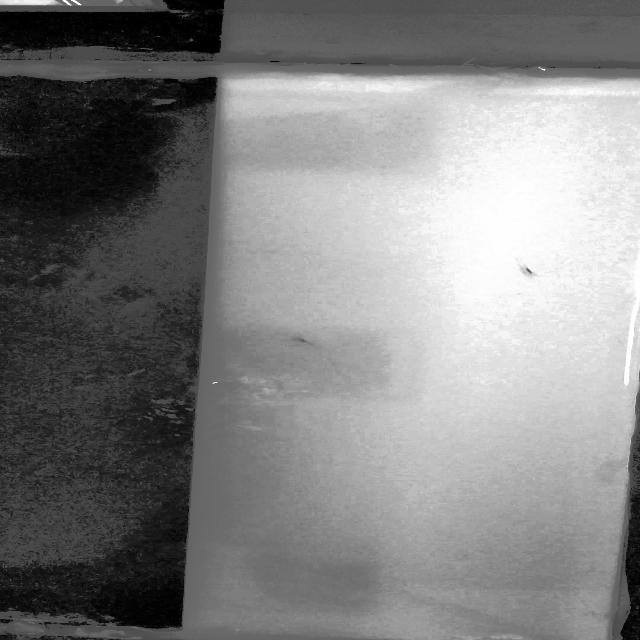shrimp: (512, 262, 554, 286), (292, 333, 321, 351)
